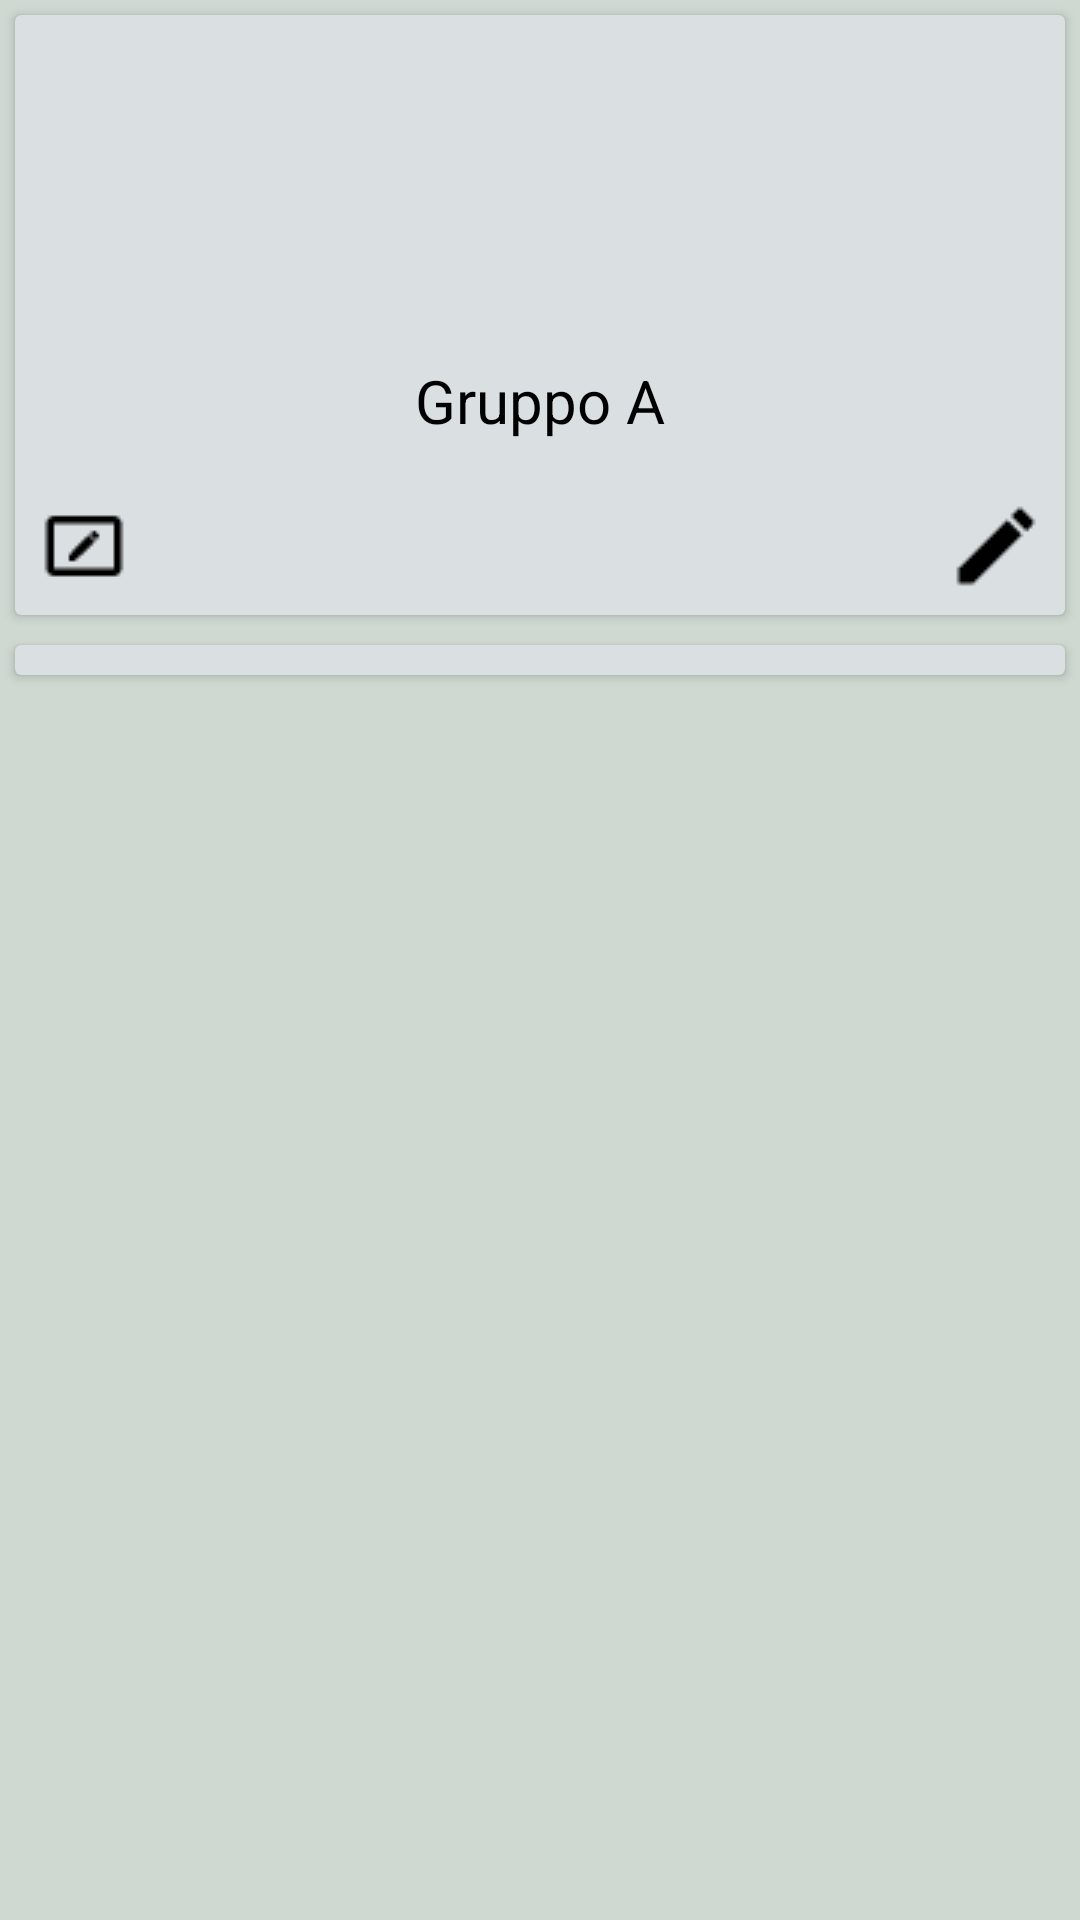

Icons on this 1080×1920 Android screen, each with the point to tap as (x=x, y=y):
modify pic: (x=84, y=546)
pencil: (x=995, y=546)
